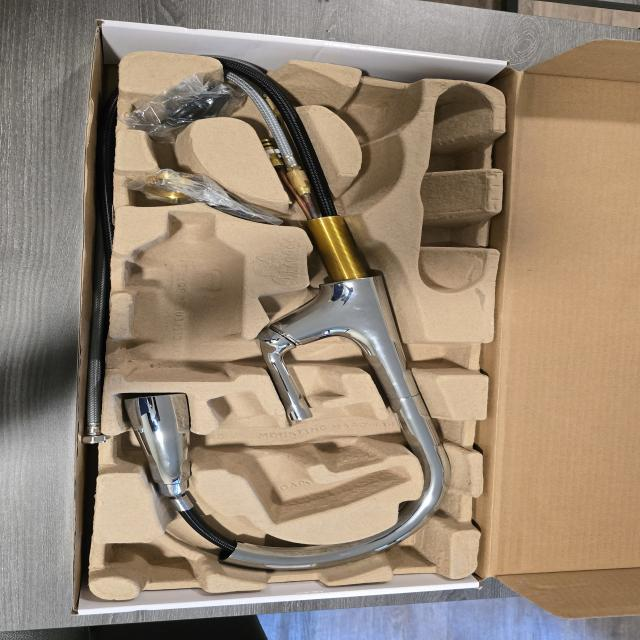1: (122, 56, 452, 572)
2m: (210, 392, 412, 523)
3m: (125, 211, 245, 378)
4m: (418, 85, 494, 292)
5m: (338, 86, 413, 137)
6: (121, 169, 285, 221)
7: (122, 72, 244, 141)
